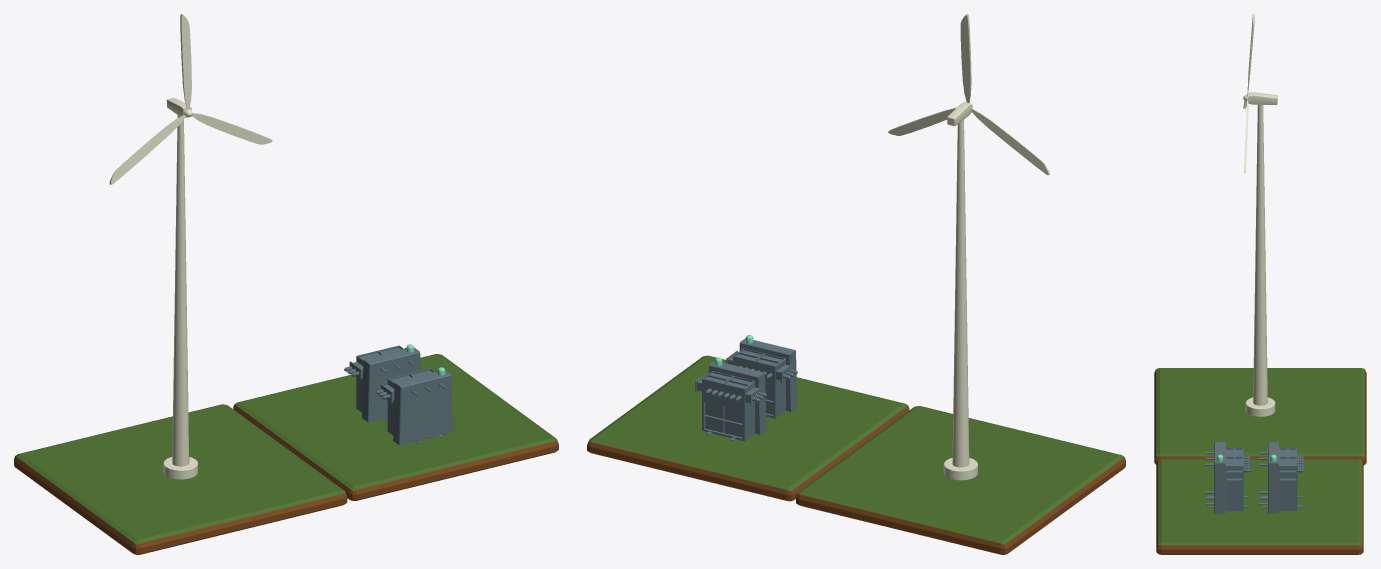
File: Wind_Turbine_Lg_with_Converter.fbx
3 views of the same model, side by side, from view 1: azimuth 30°, elevation 25°; view 2: azimuth 150°, elevation 25°; view 3: azimuth 270°, elevation 25° (orthographic). The views are drawn at different scales.
Visible parts, largest first — view 1: WindTurbine_Lg, WindTurbine_Lg.005, Tower.001, Transformer_Casing.004, Transformer_Casing, Blades; view 2: WindTurbine_Lg, WindTurbine_Lg.005, Tower.001, Transformer_Casing, Transformer_Casing.004, Blades; view 3: WindTurbine_Lg, WindTurbine_Lg.005, Tower.001, Transformer_Casing.004, Transformer_Casing, Blades, Nacelle.
Part boxes in pixels (x1=…): WindTurbine_Lg: x1=14, y1=404, x2=347, y2=554; WindTurbine_Lg.005: x1=233, y1=354, x2=558, y2=500; Tower.001: x1=163, y1=115, x2=197, y2=479; Transformer_Casing.004: x1=381, y1=367, x2=452, y2=445; Transformer_Casing: x1=349, y1=344, x2=420, y2=422; Blades: x1=109, y1=14, x2=272, y2=184; WindTurbine_Lg: x1=796, y1=406, x2=1125, y2=554; WindTurbine_Lg.005: x1=587, y1=355, x2=909, y2=501; Tower.001: x1=943, y1=120, x2=977, y2=480; Transformer_Casing: x1=695, y1=357, x2=766, y2=441; Transformer_Casing.004: x1=726, y1=335, x2=797, y2=418; Blades: x1=888, y1=14, x2=1049, y2=175; WindTurbine_Lg: x1=1154, y1=368, x2=1366, y2=465; WindTurbine_Lg.005: x1=1156, y1=459, x2=1363, y2=554; Tower.001: x1=1245, y1=104, x2=1275, y2=416; Transformer_Casing.004: x1=1205, y1=442, x2=1249, y2=513; Transformer_Casing: x1=1259, y1=442, x2=1302, y2=513; Blades: x1=1243, y1=14, x2=1255, y2=172; Nacelle: x1=1248, y1=92, x2=1277, y2=104.
Size of the model in its own units: 311 by 329 by 156.
